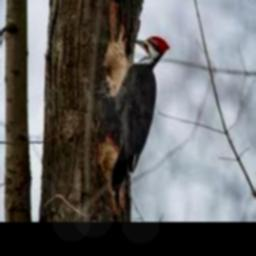Woodpecker: (101, 36, 170, 210)
